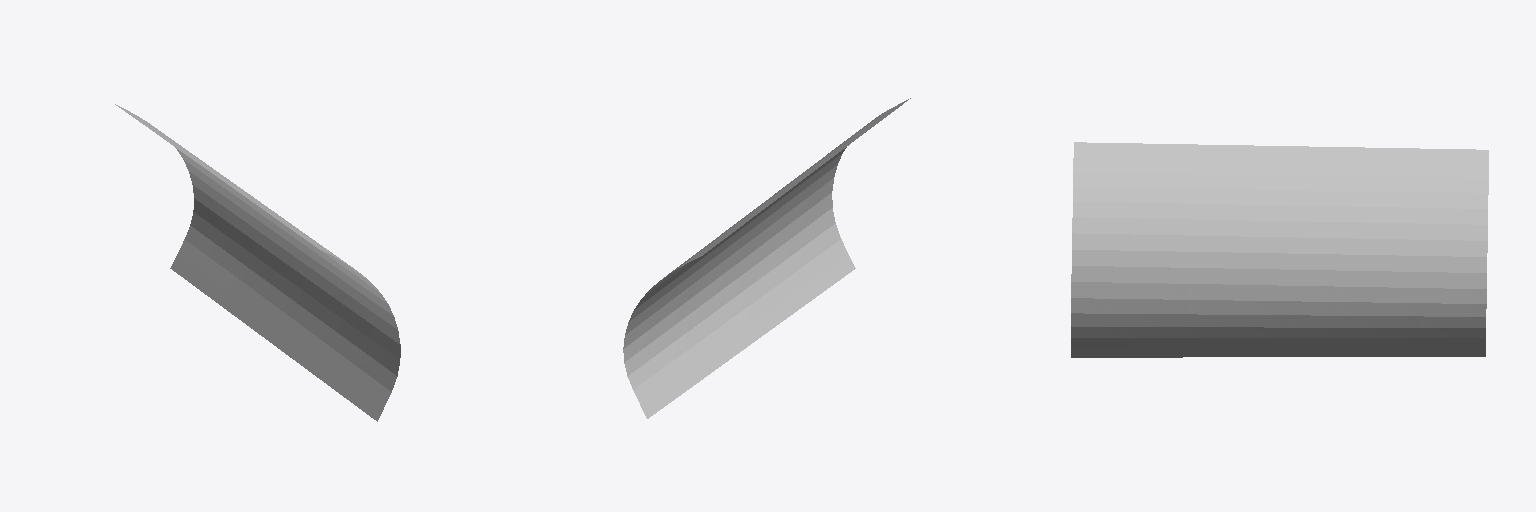
Rendered from page0005.obj.
3 renders of one model, left to right at view 1: azimuth 30°, elevation 25°; view 2: azimuth 150°, elevation 25°; view 3: azimuth 270°, elevation 25°, orthographic.
Bounding box in the file's own units: 115 × 248 × 504.